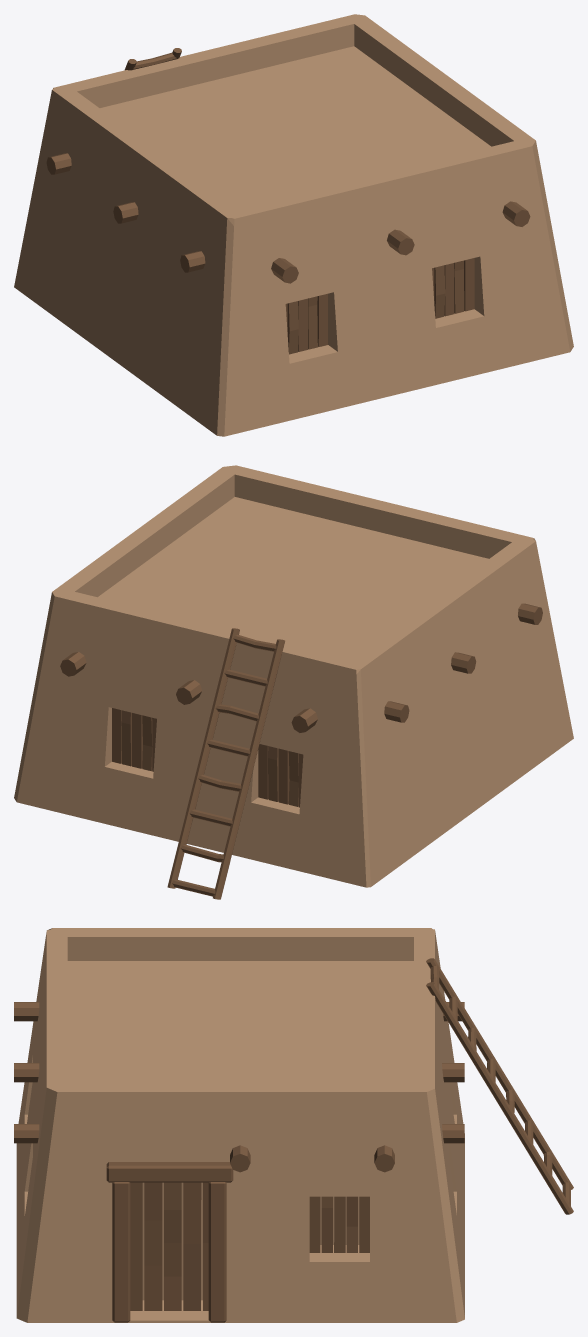
File: archway.glb
3 views of the same model, one above another, from view 1: azimuth 30°, elevation 25°; view 2: azimuth 150°, elevation 25°; view 3: azimuth 270°, elevation 25° (orthographic). The views are drawn at different scales.
Parts seen in each view (by area): view 1: House_3_Base, House_3_Windows, House_3_Beams_Area; view 2: House_3_Base, House_3_Stairs_to_Roof, House_3_Windows, House_3_Beams_Area; view 3: House_3_Base, House_3_Door, House_3_Door_Platband, House_3_Stairs_to_Roof, House_3_Beams_Area, House_3_Windows.
Boxes of the visible parts, x1,y1,x2,y2 form: House_3_Base: [14, 14, 573, 436]; House_3_Windows: [285, 258, 474, 354]; House_3_Beams_Area: [46, 153, 530, 283]; House_3_Base: [14, 465, 573, 887]; House_3_Stairs_to_Roof: [167, 628, 284, 899]; House_3_Windows: [112, 708, 303, 807]; House_3_Beams_Area: [60, 603, 542, 732]; House_3_Base: [16, 928, 464, 1322]; House_3_Door: [130, 1182, 208, 1310]; House_3_Door_Platband: [106, 1162, 233, 1322]; House_3_Stairs_to_Roof: [426, 958, 573, 1214]; House_3_Beams_Area: [14, 1002, 464, 1172]; House_3_Windows: [309, 1196, 369, 1252].
Bounding box in the file's own units: 5.82 × 3.28 × 7.21.
